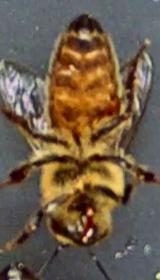varroa_mite: (96, 88, 136, 124)
